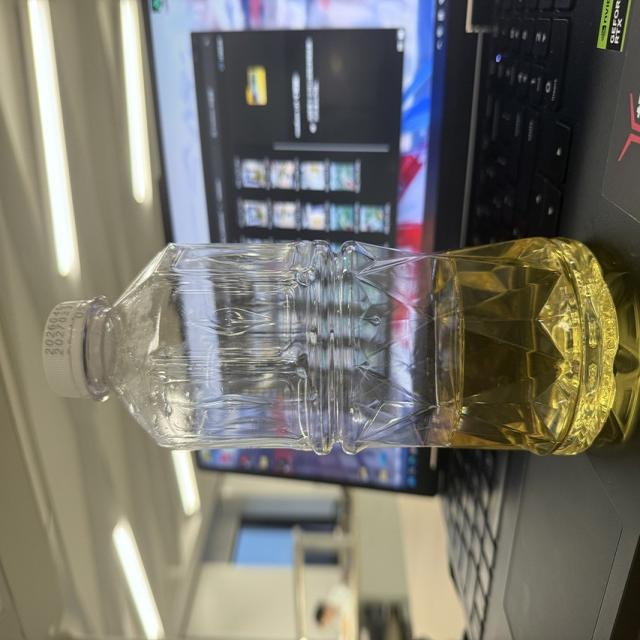low: (41, 238, 637, 454)
